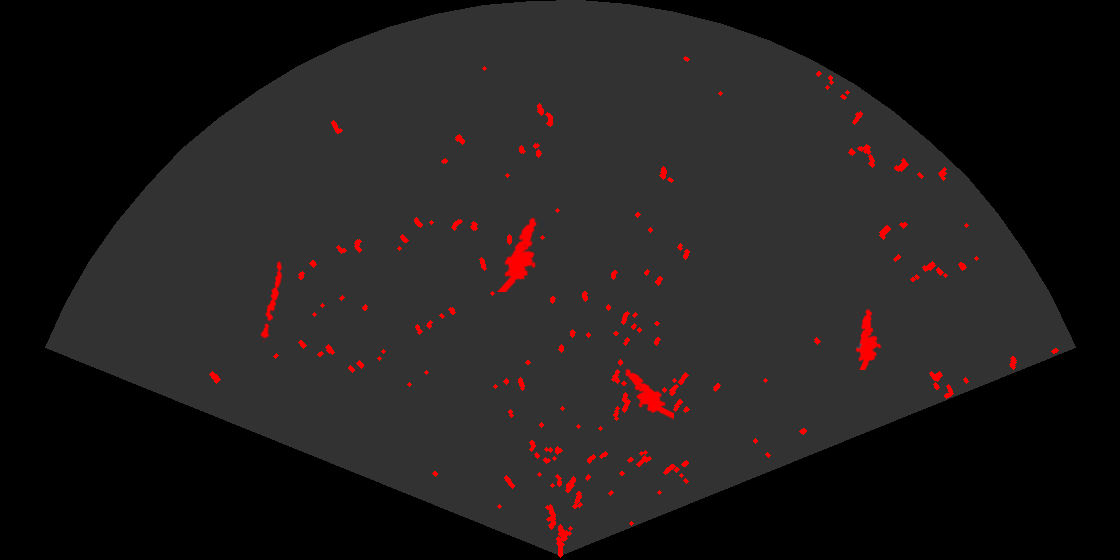chain: (259, 259, 284, 343)
frogman: (495, 216, 538, 292), (623, 367, 674, 421), (854, 307, 883, 370)
